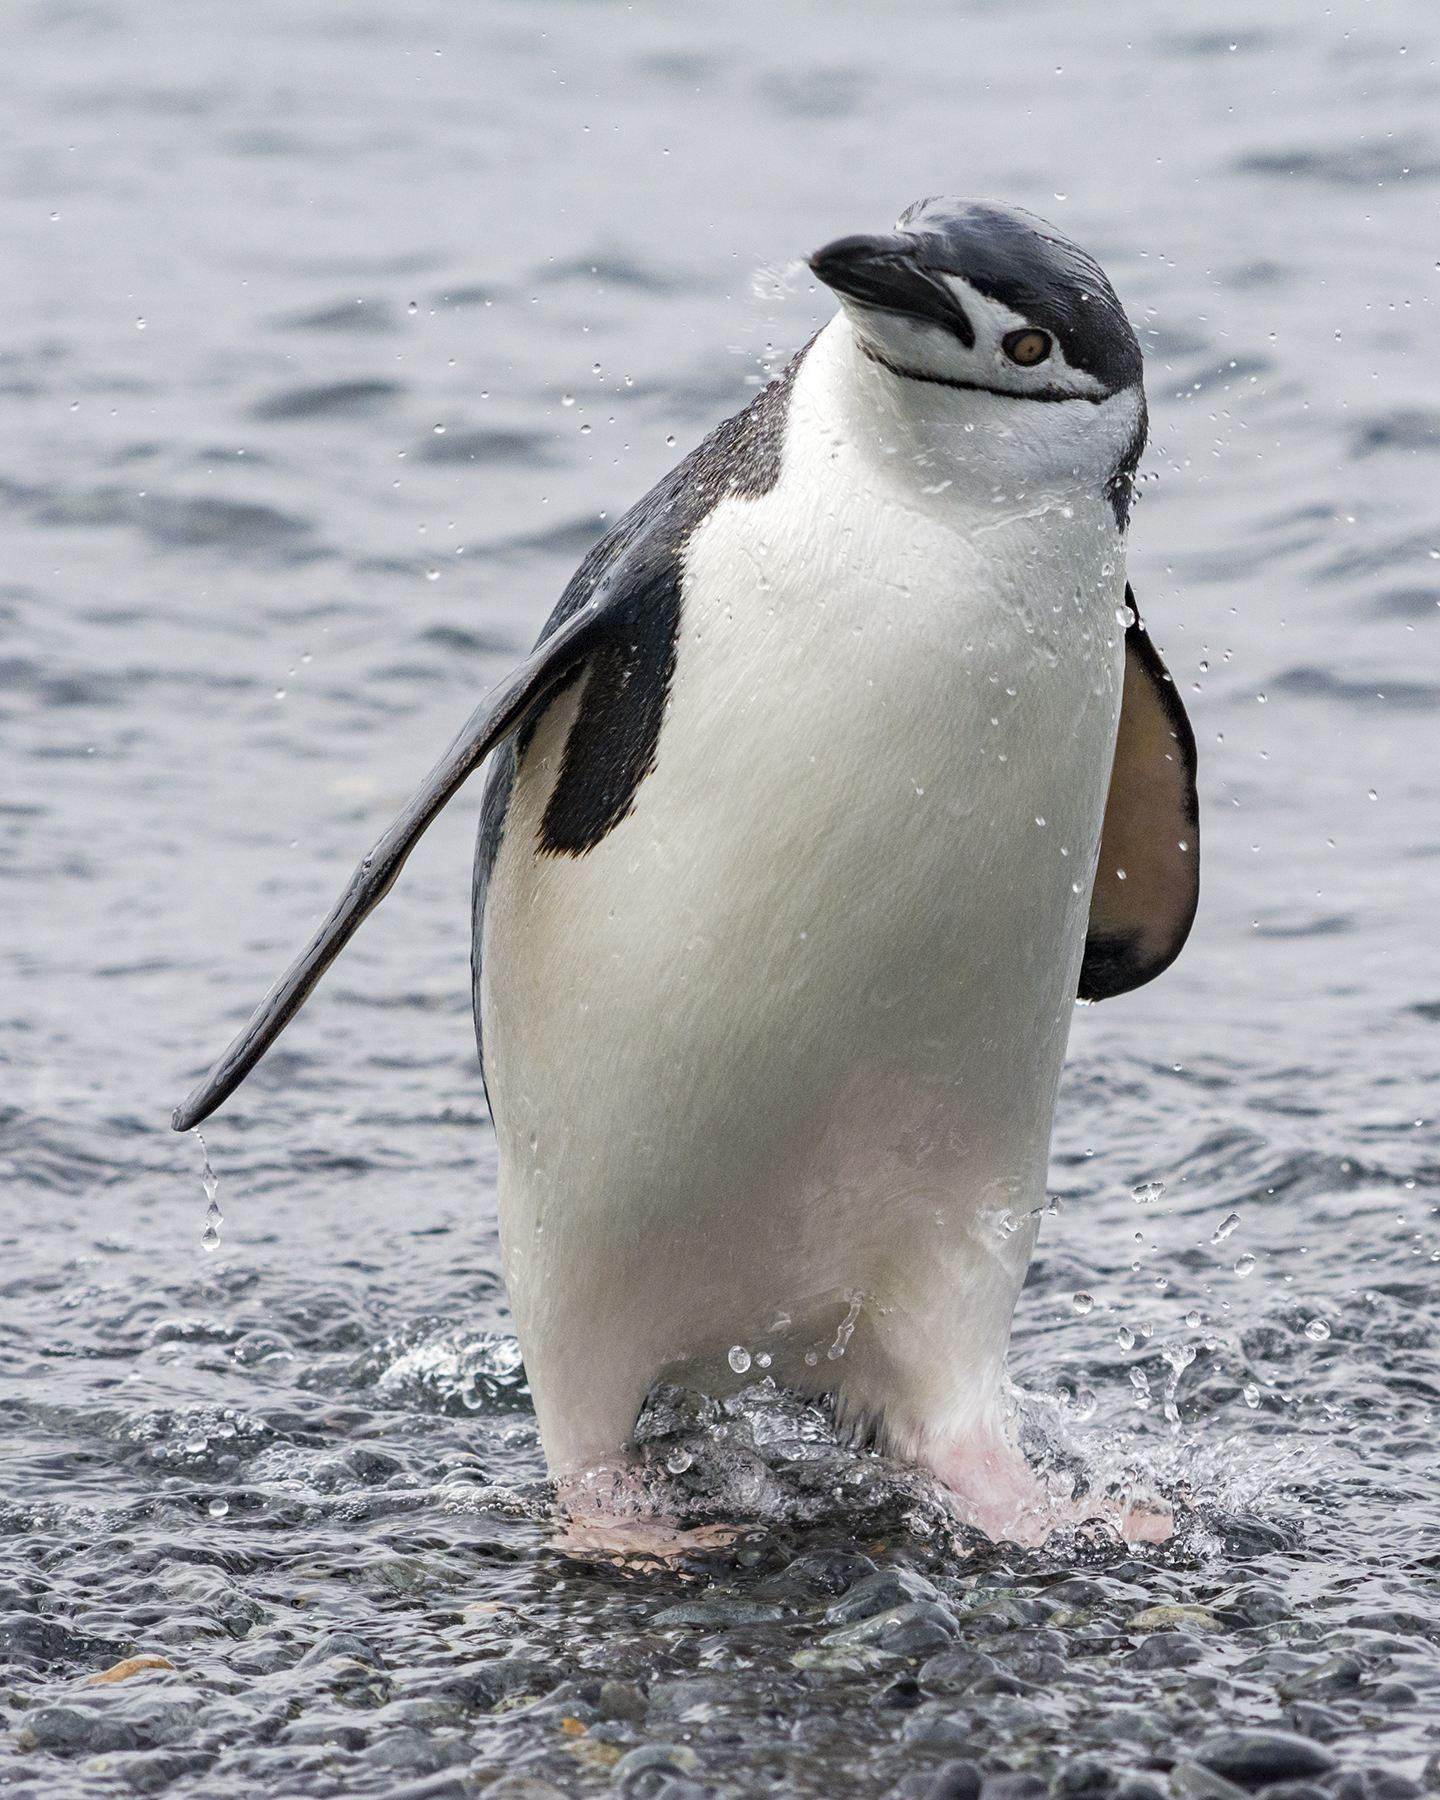chinstrap: (222, 128, 1295, 1634)
